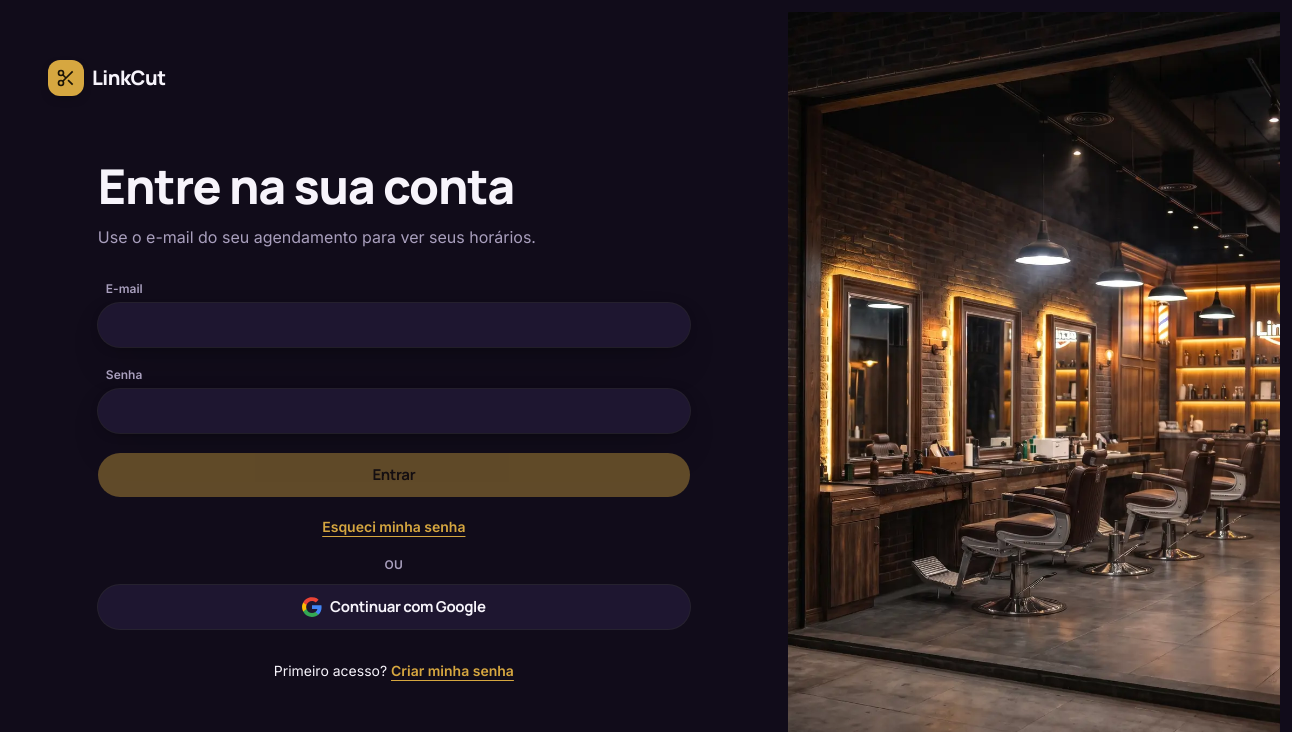
ClientAuthView › hides Google while the client is resetting the password
Click the button "Esqueci minha senha" at (394, 527), box [98,517,690,537]
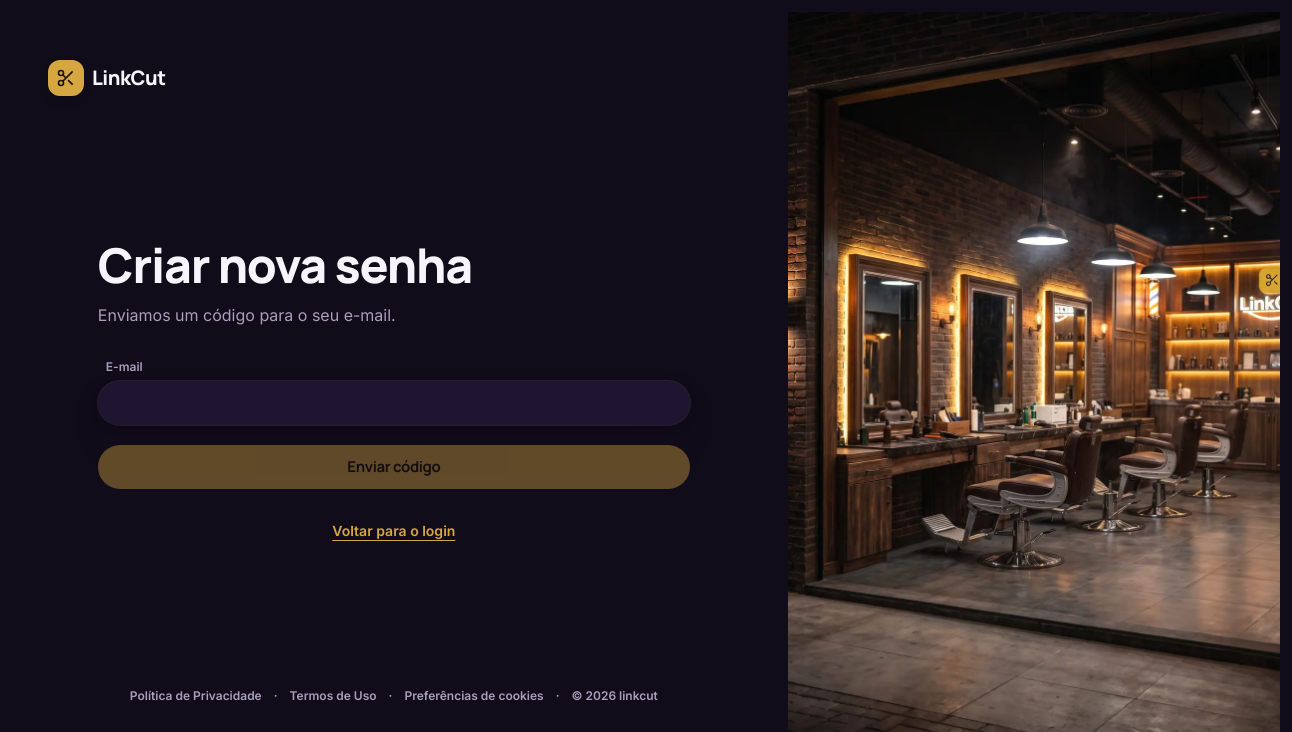
Expected: the heading "Criar nova senha" is shown, [98,232,472,297]
Expected: the link "Continuar com Google" is gone
